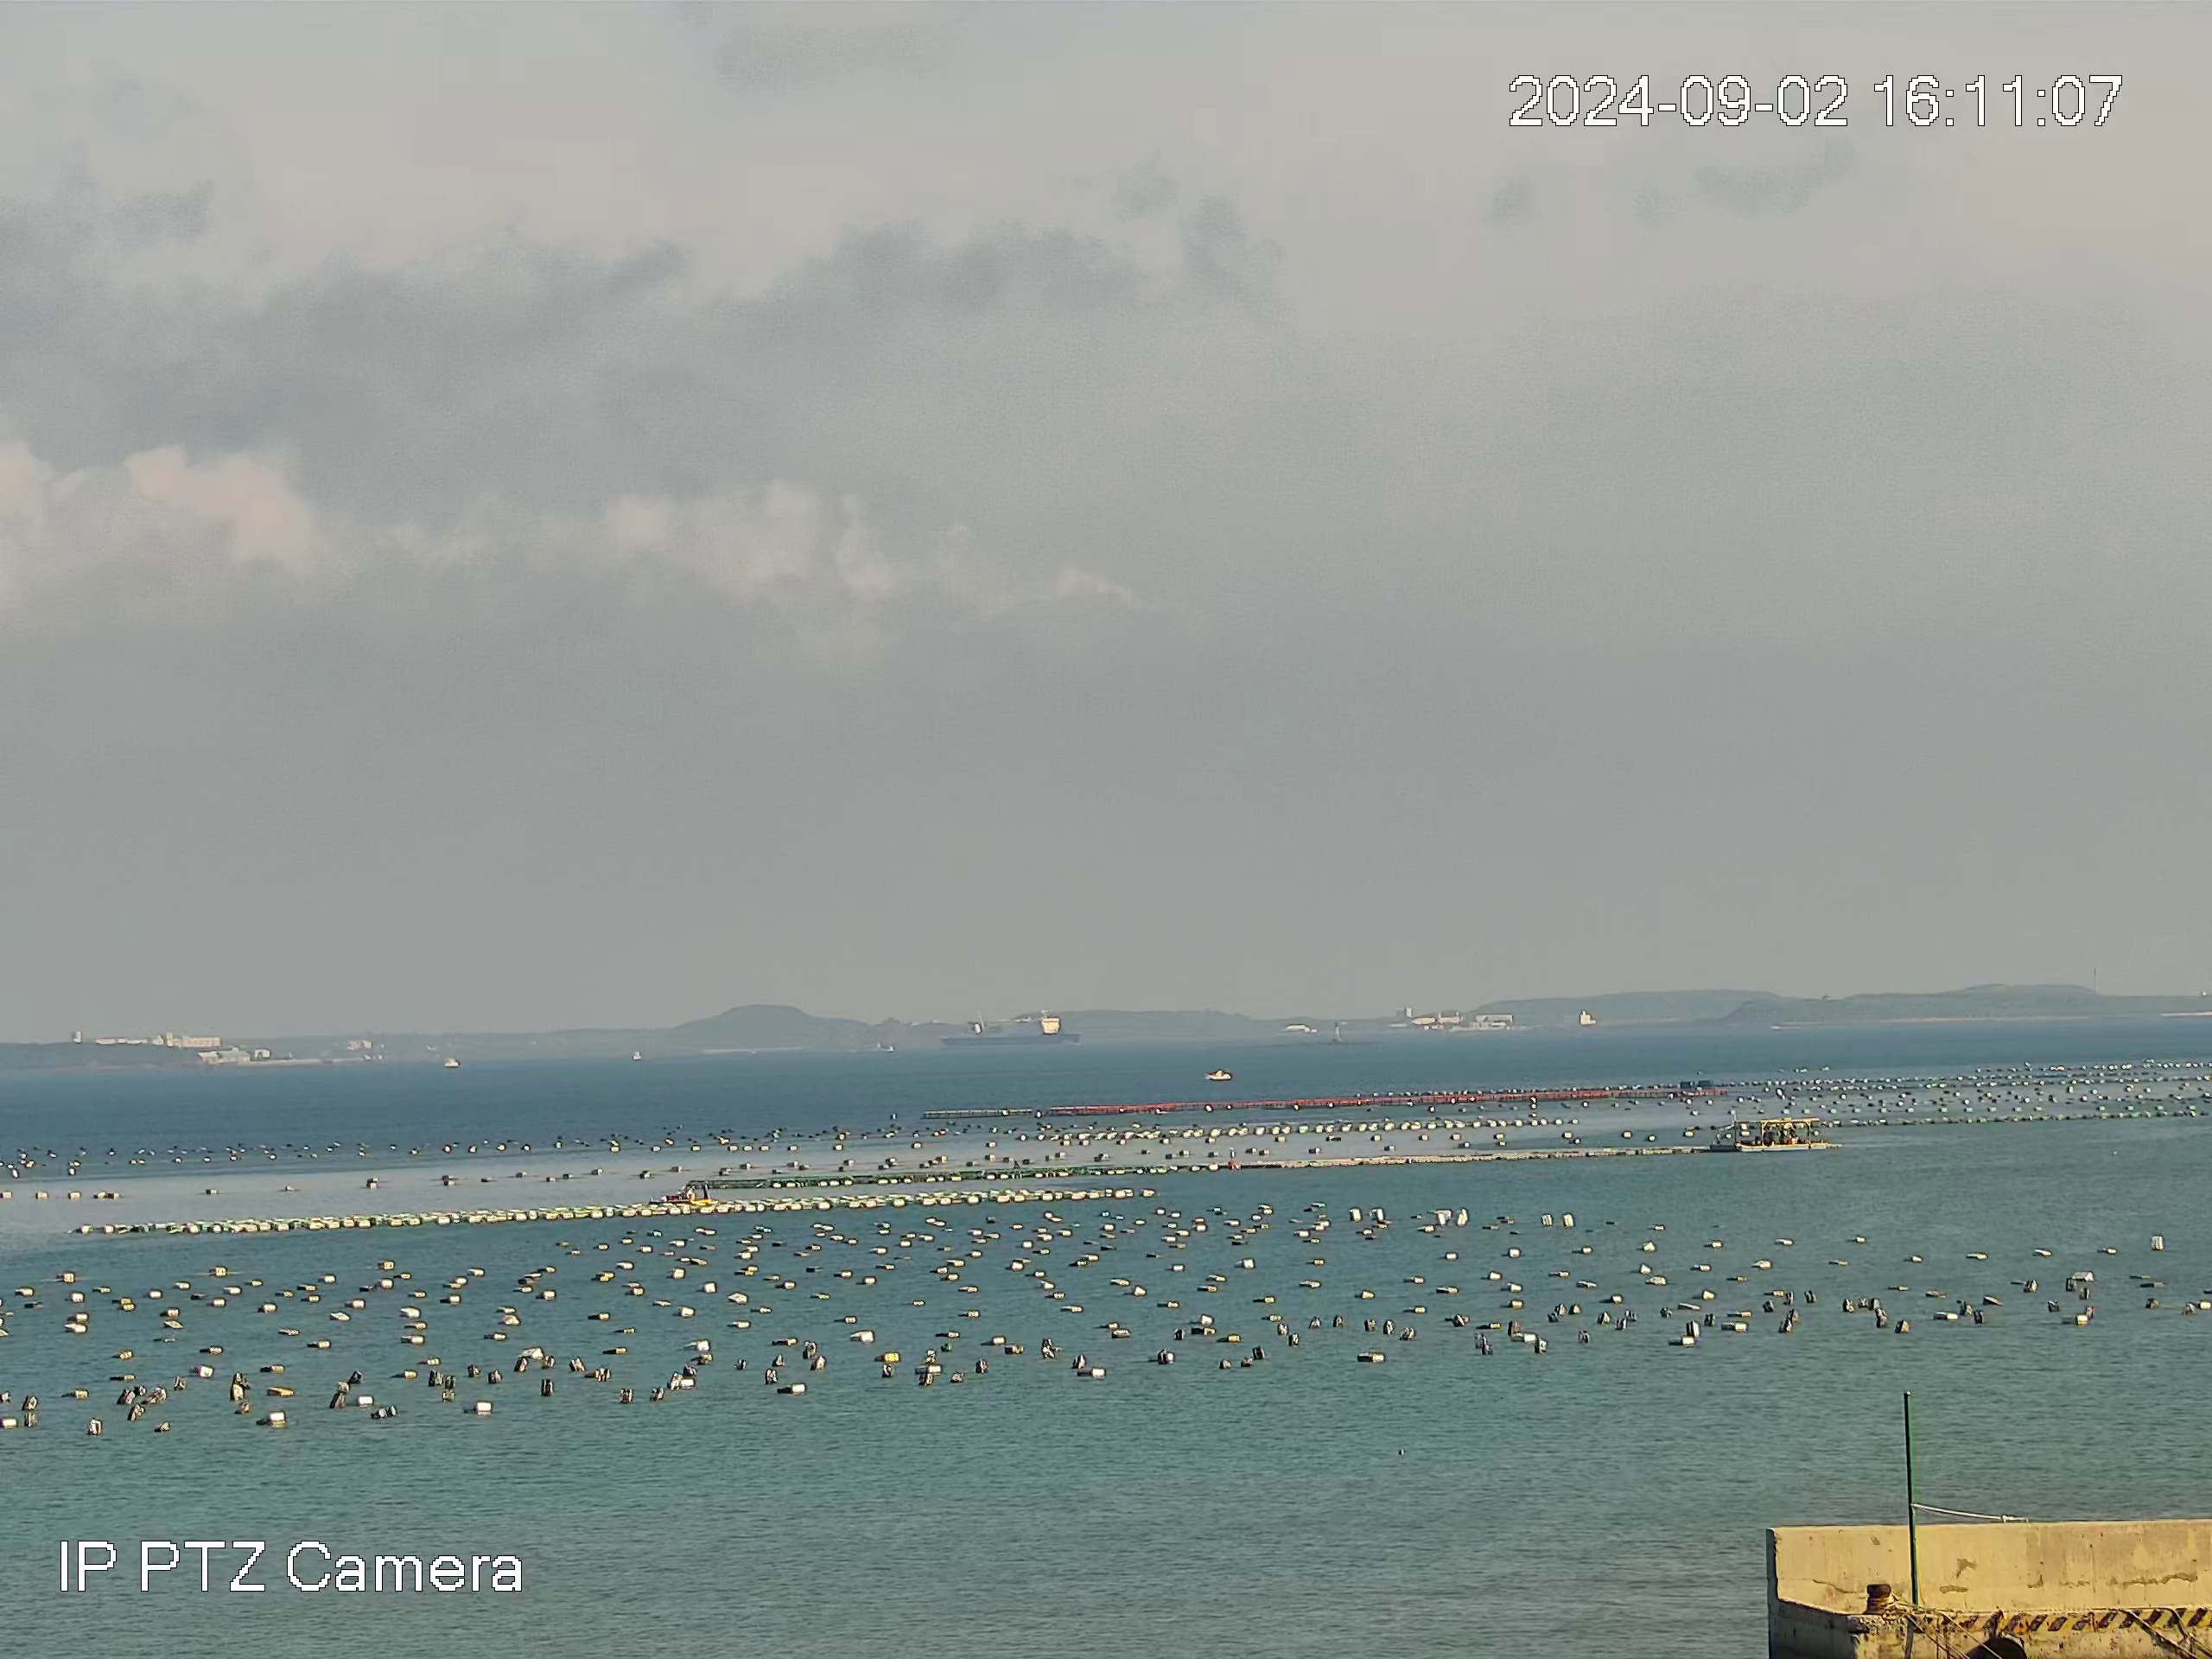boat: (937, 1016, 1082, 1047), (1733, 1117, 1829, 1152), (646, 1182, 716, 1206), (1202, 1066, 1231, 1082)
